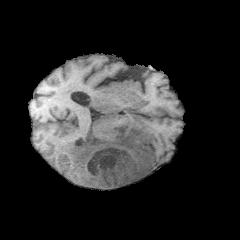glioma: (58, 122, 155, 189)
